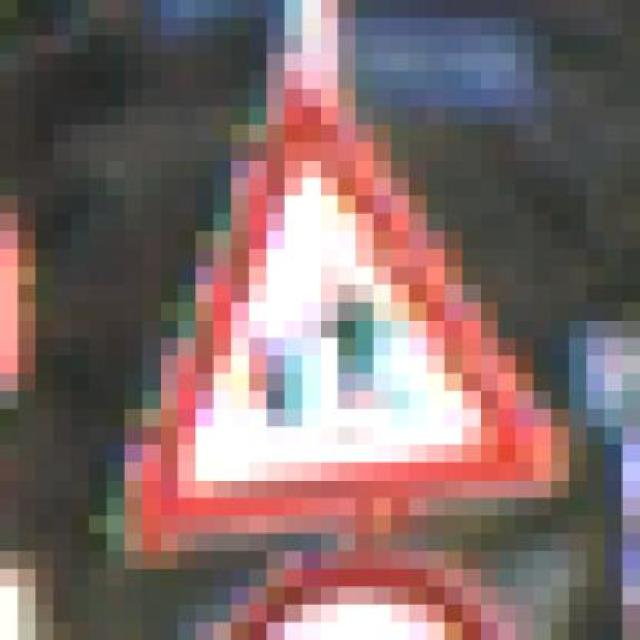Beware of children: (71, 71, 569, 551)
